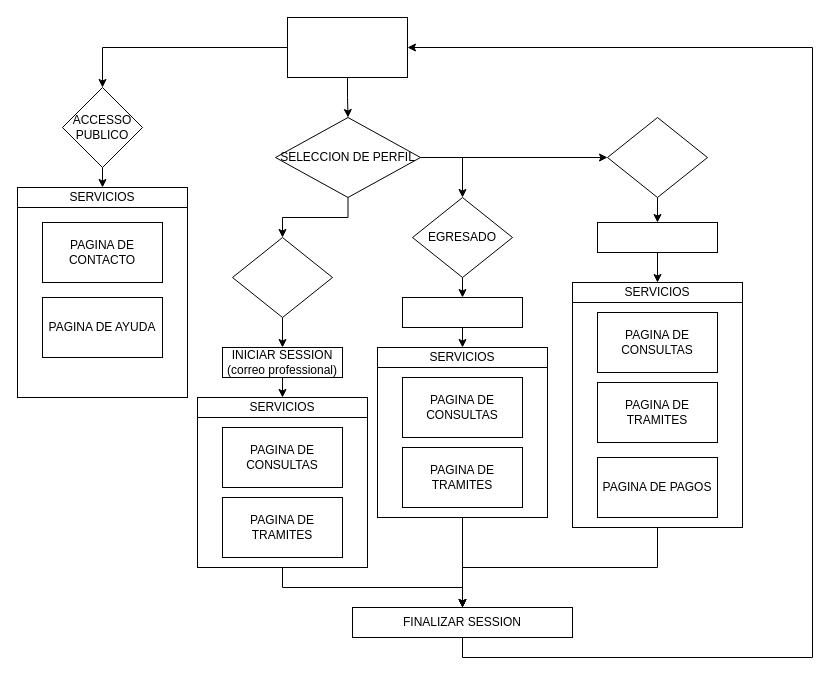
The diagram is 838 pixels wide and 683 high, and some of its shapes have lost their labels. The shapes that lost their labels are listed below. From the top down, each one's box as (x1, y1, x2, y2) in pixels, then its label:
(286, 16, 408, 78): PAGINA PRINCIPAL
(606, 116, 708, 198): ESTUDIANTE
(596, 222, 718, 252): INICIAR SESSION (correo instutucional)
(232, 236, 332, 318): PERSONAL
(402, 296, 522, 328): INICIAR SESSION (correo personal)
